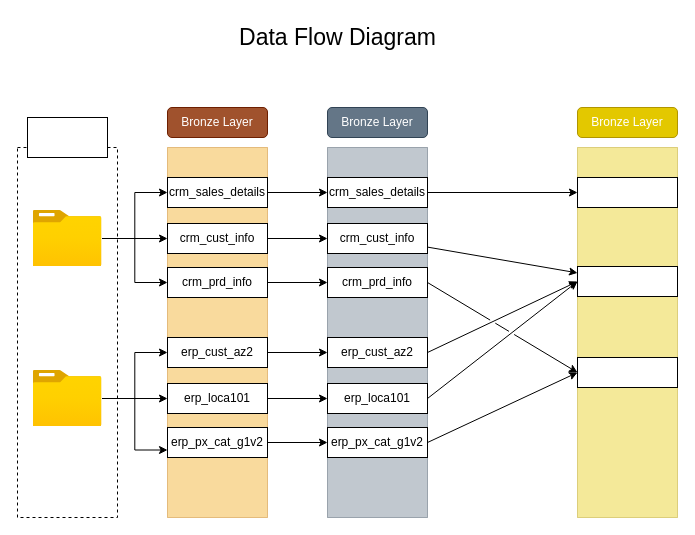
Image size: 695x535. Some labels were removed from this diagram. The centre of each missing label's shape, as x and y in pixels:
"CRM" goes at point (67, 238).
"dim_customers" goes at point (627, 281).
"dim_products" goes at point (627, 372).
"ERP" goes at point (67, 398).
"fact_sales" goes at point (627, 192).
"Sources" goes at point (67, 137).
